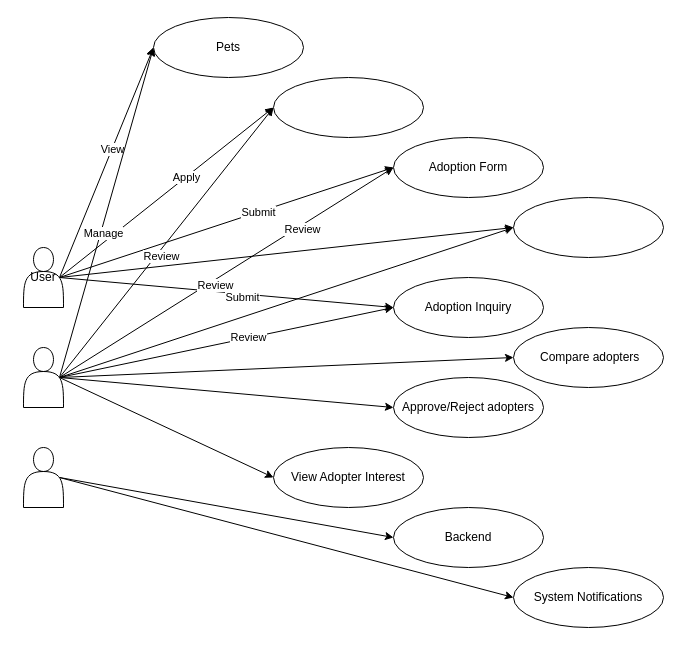
Image size: 681x645. Some labels were removed from this diagram. Each missing label, with the centre of its shape:
Admin: pixel 43 477
Employee: pixel 43 377
Login: pixel 588 227
Visit: pixel 348 107
